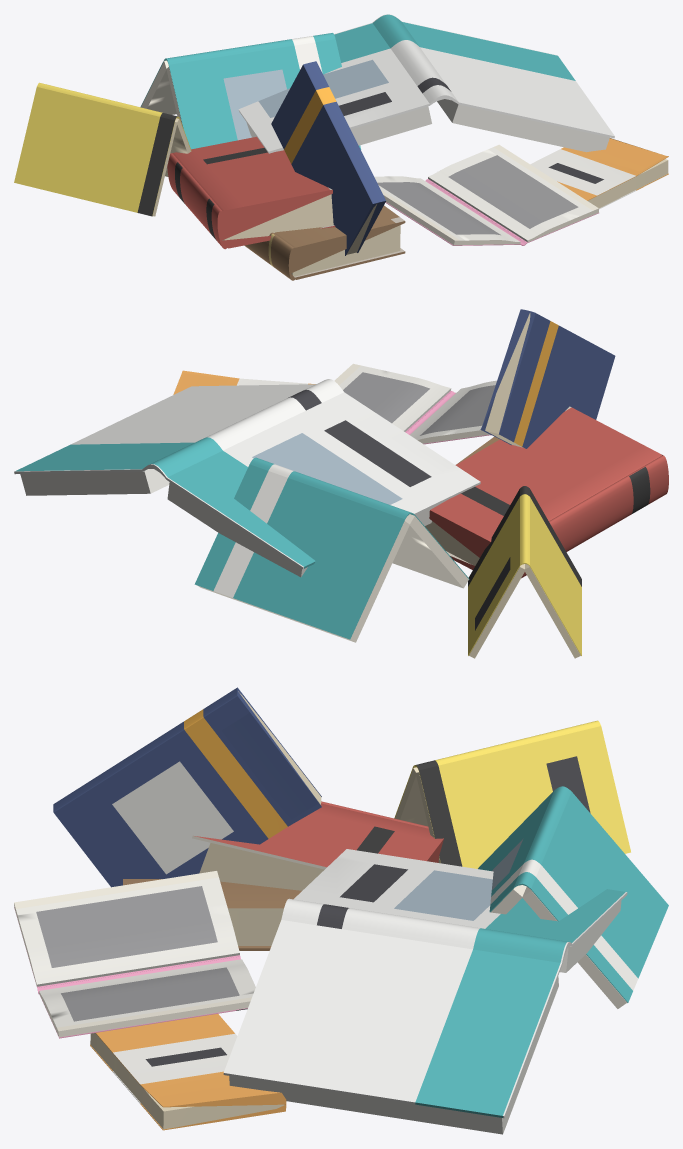
The model's file is paper_books_scattered_c.fbx.
3 renders of one model, top to bottom at view 1: azimuth 30°, elevation 25°; view 2: azimuth 150°, elevation 25°; view 3: azimuth 270°, elevation 25°, orthographic. The views are drawn at different scales.
Visible parts, largest first — view 1: paper_books_scattered_c; view 2: paper_books_scattered_c; view 3: paper_books_scattered_c.
Boxes of the visible parts, box(x1,y1,x2,y2) form: paper_books_scattered_c: box(14, 14, 668, 280); paper_books_scattered_c: box(14, 309, 668, 658); paper_books_scattered_c: box(14, 687, 668, 1134).
Size of the model in its own units: 0.6702 by 0.2114 by 0.5541.
